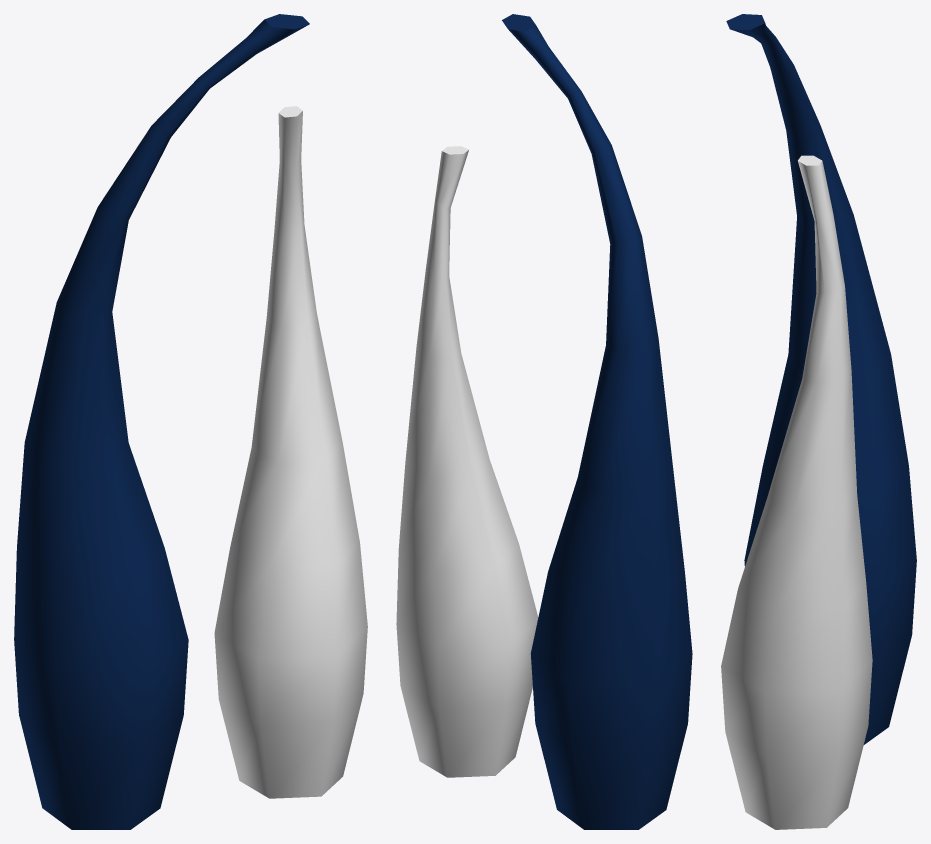
Rendered from prop_027.fbx.
3 renders of one model, left to right at view 1: azimuth 30°, elevation 25°; view 2: azimuth 150°, elevation 25°; view 3: azimuth 270°, elevation 25°, orthographic. The views are drawn at different scales.
Visible parts, largest first — view 1: prop_027; view 2: prop_027; view 3: prop_027.
Boxes of the visible parts, box(x1,y1,x2,y2) form: prop_027: box(14, 14, 367, 829); prop_027: box(396, 14, 692, 829); prop_027: box(721, 14, 916, 829).
Size of the model in its own units: 18.22 by 10.46 by 45.59.
